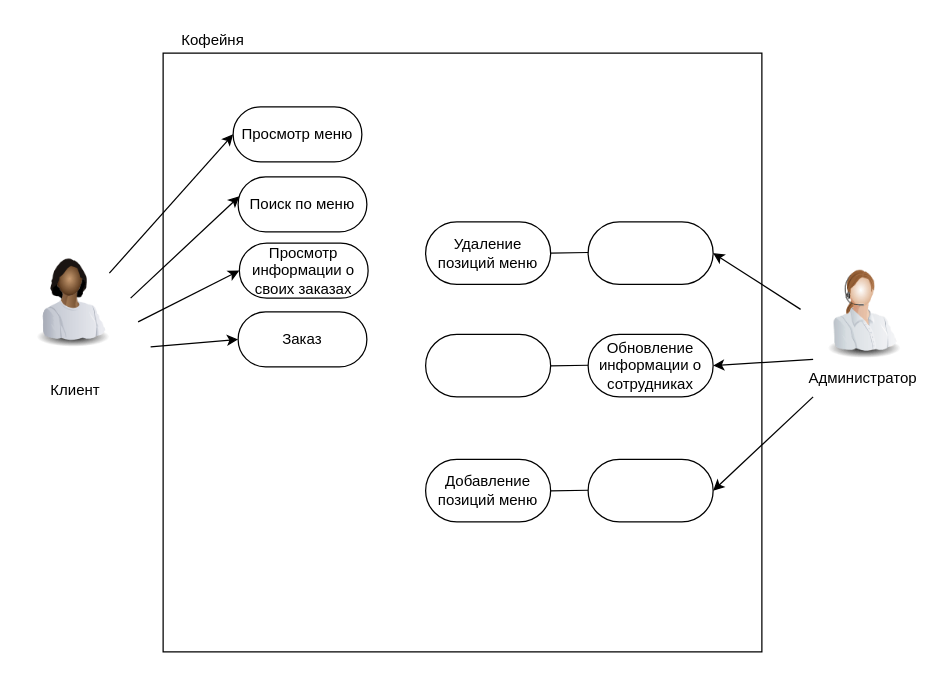
The diagram is 939 pixels wide and 674 high, and some of its shapes have lost their labels. The box of each missing label's shape, as (x1, y1, x2, y2) in pixels:
Добавление сотрудников: (587, 458, 713, 522)
Обновление позиций меню: (424, 333, 551, 397)
Удаление сотрудников: (587, 221, 713, 284)
